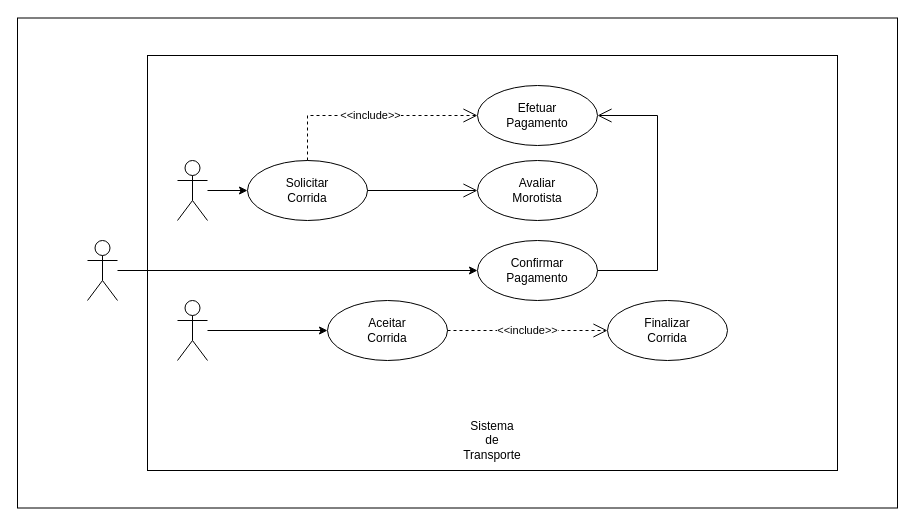
The diagram is 915 pixels wide and 525 high, and some of its shapes have lost their labels. The shapes that lost their labels are listed below. From the top down, each one's box as (x1, y1, x2, y2) in pixels, then its label:
(176, 160, 208, 220): Passageiro
(86, 240, 118, 300): Sistema de Pagamento
(176, 300, 208, 360): Garçom
